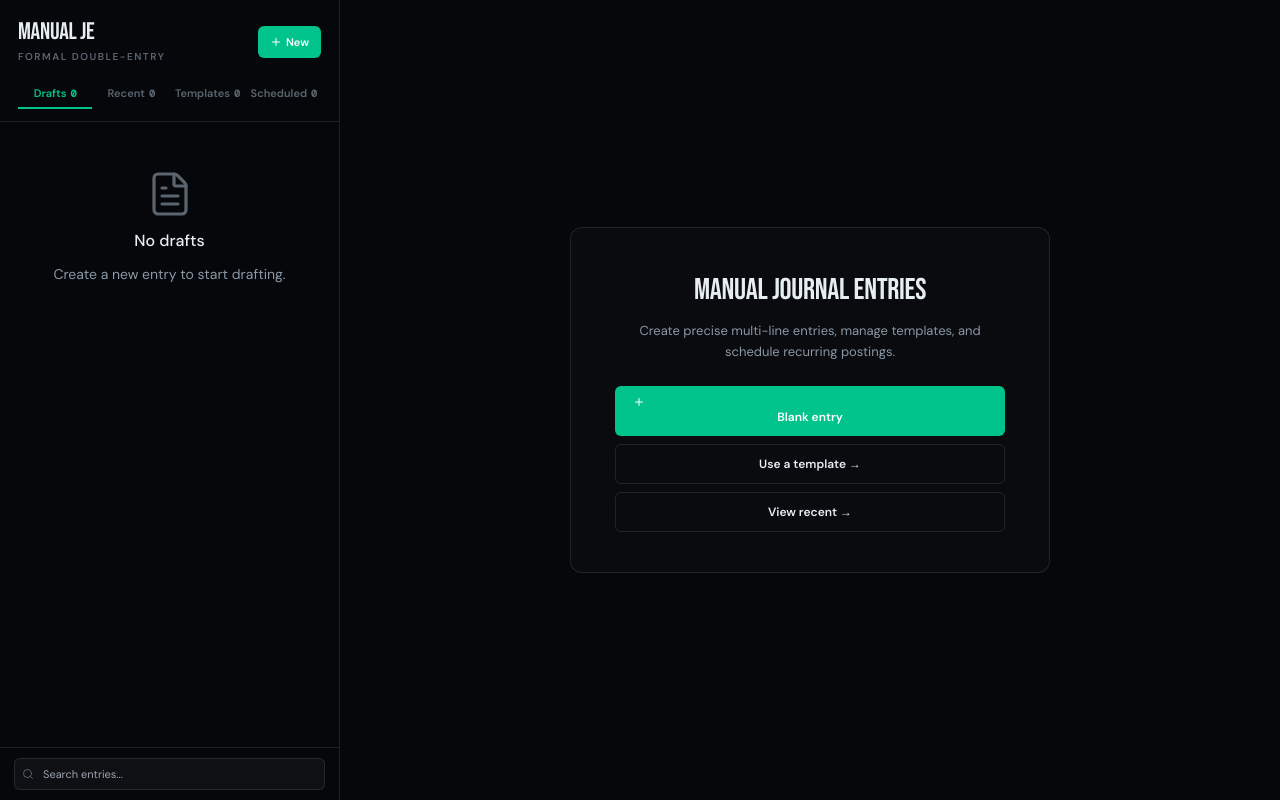
Scenario: RecurringJETemplates (ManualJEScreen templates tab) — AUDIT-ACC-010 › loads instance history via listRecurringEntryInstances and renders status badges
Click the button "Templates0" at (208, 93), box top-left (170, 78), bottom-right (245, 108)
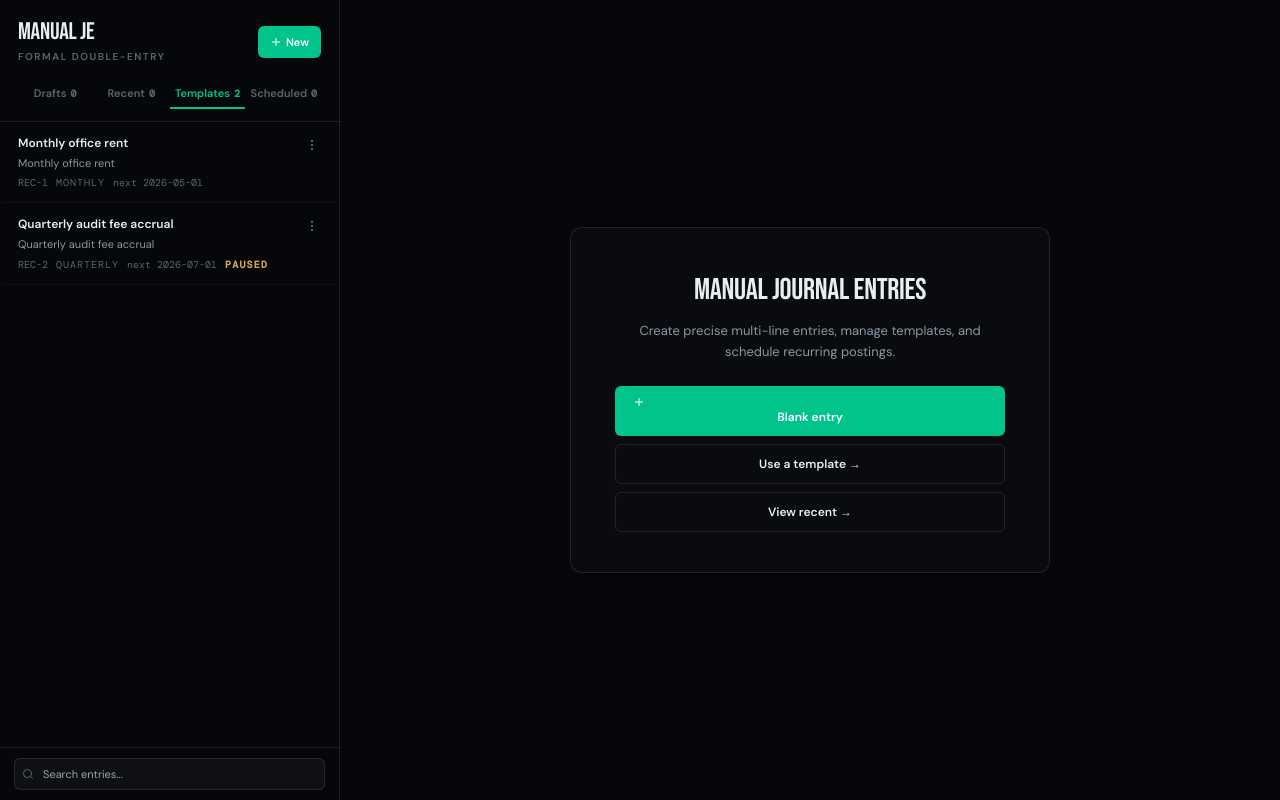
Check: the 1st text "Monthly office rent" is shown, box top-left (18, 134), bottom-right (128, 150)
# Open the kebab + click Instance History.
Click the 1st button named "Open actions menu" at (312, 144), box top-left (301, 134), bottom-right (323, 156)
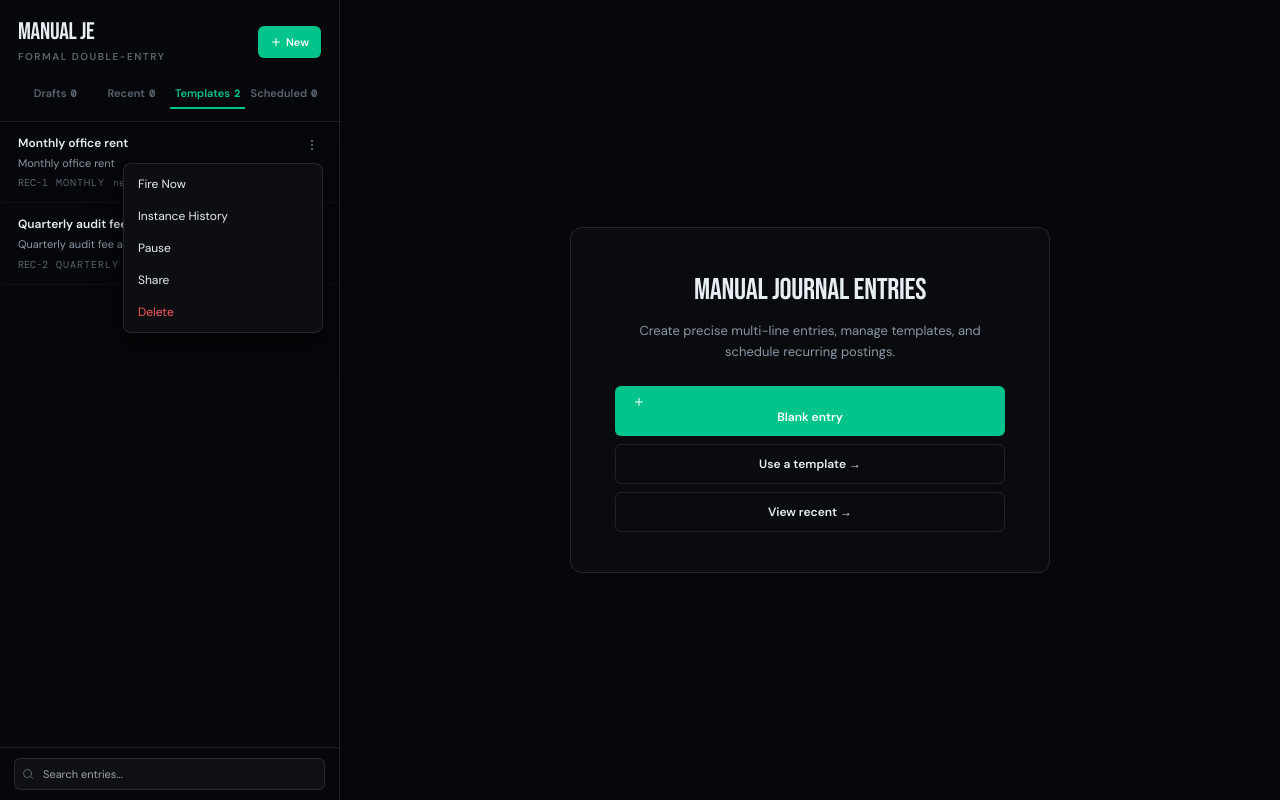
Click the button "Instance History" at (223, 216), box top-left (124, 200), bottom-right (322, 232)
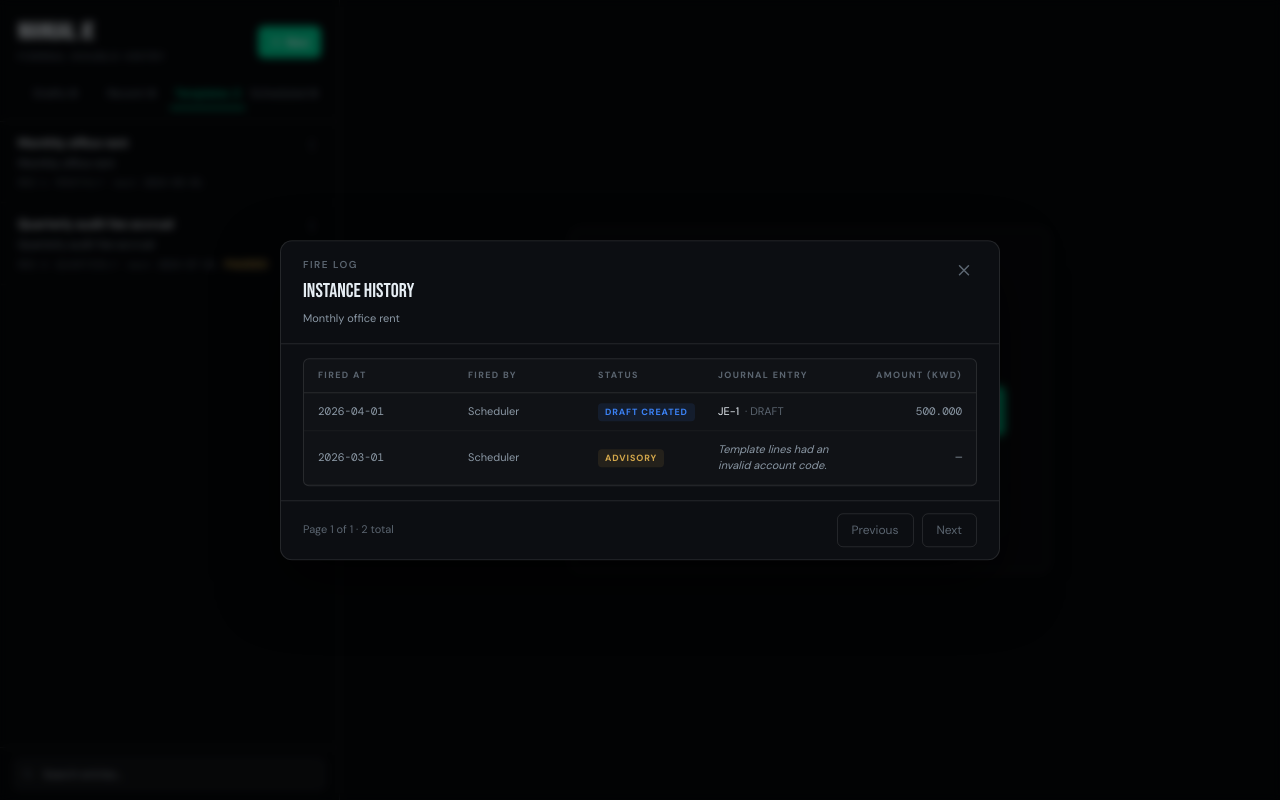
Check: the text "Draft created" is shown, box top-left (598, 403), bottom-right (695, 421)
Check: the text "Advisory" is shown, box top-left (598, 449), bottom-right (664, 467)
Check: the text "Template lines had an invalid account code." is shown, box top-left (718, 442), bottom-right (828, 472)
